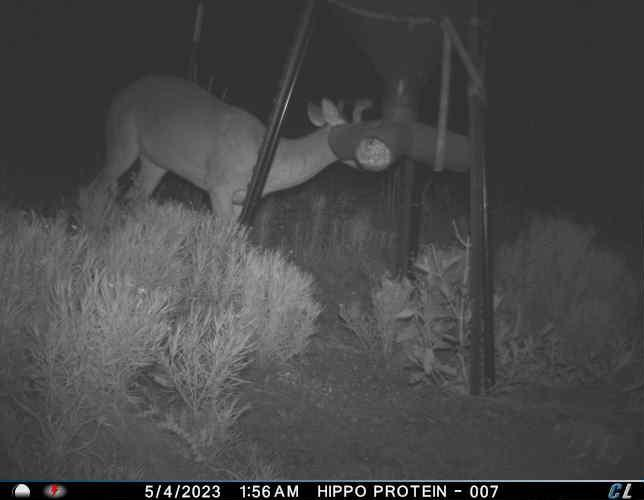Deer: (81, 69, 381, 227)
